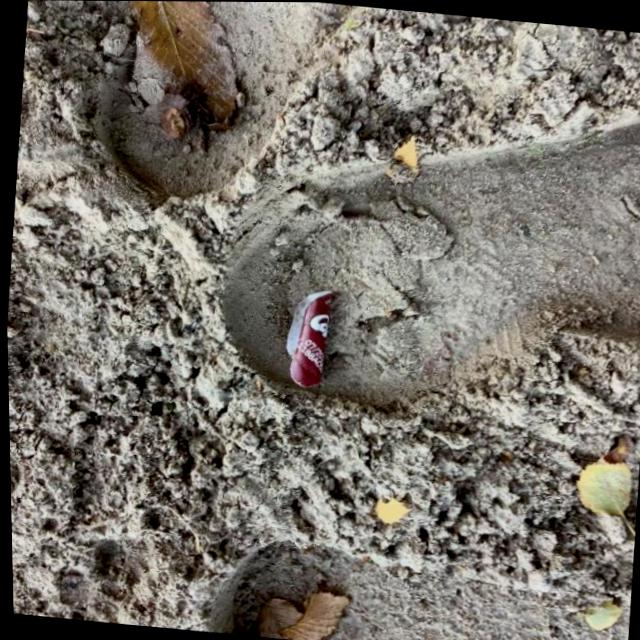Paper: (276, 283, 333, 389)
